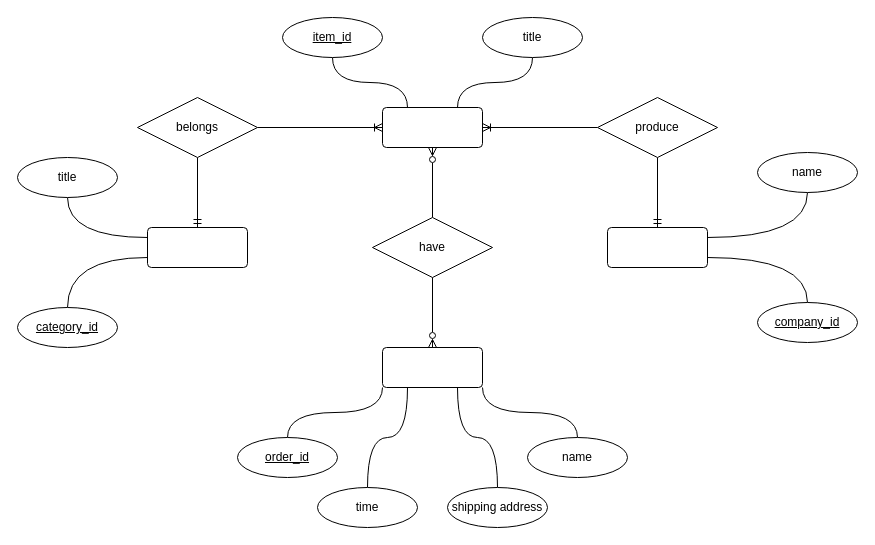
The diagram is 875 pixels wide and 545 high, and some of its shapes have lost their labels. The box of each missing label's shape, as (x1, y1, x2, y2) in pixels:
category: (146, 226, 248, 268)
company: (606, 226, 708, 268)
items: (382, 106, 482, 148)
order: (382, 346, 482, 388)
